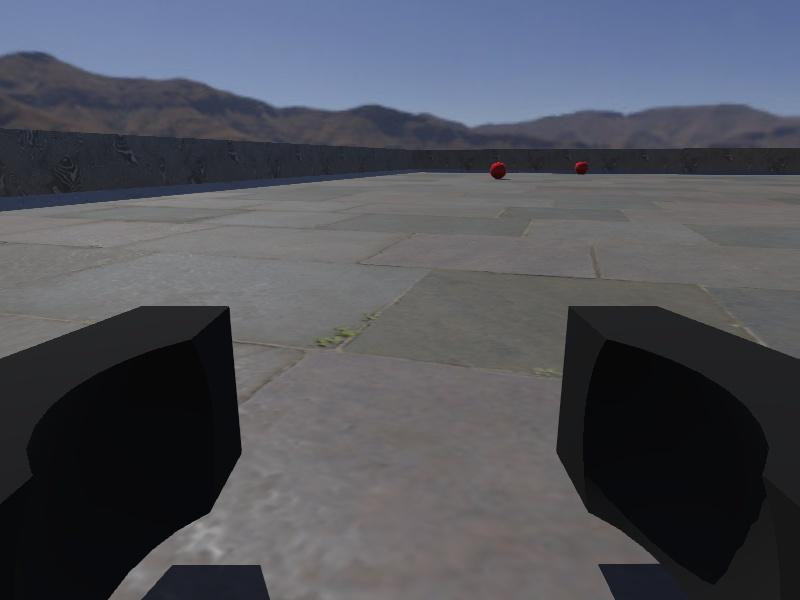red ball: (489, 160, 508, 180), (575, 160, 589, 175)
